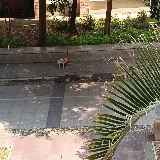fire: (62, 56, 67, 62)
